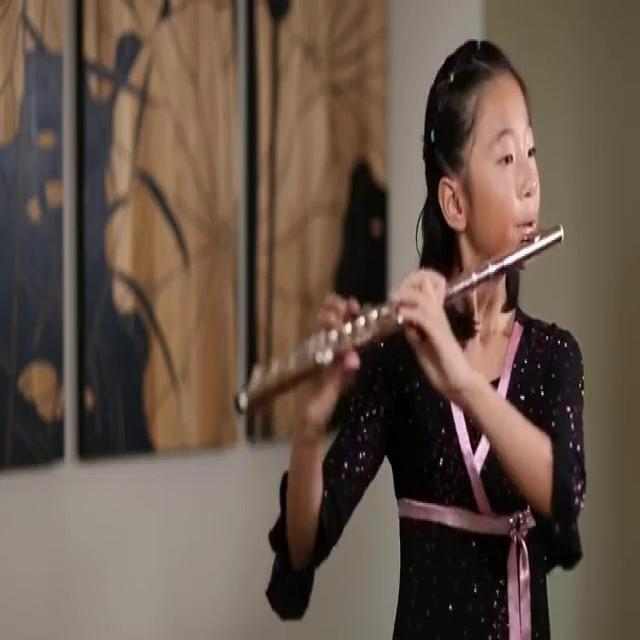Daf: (224, 209, 574, 433)
